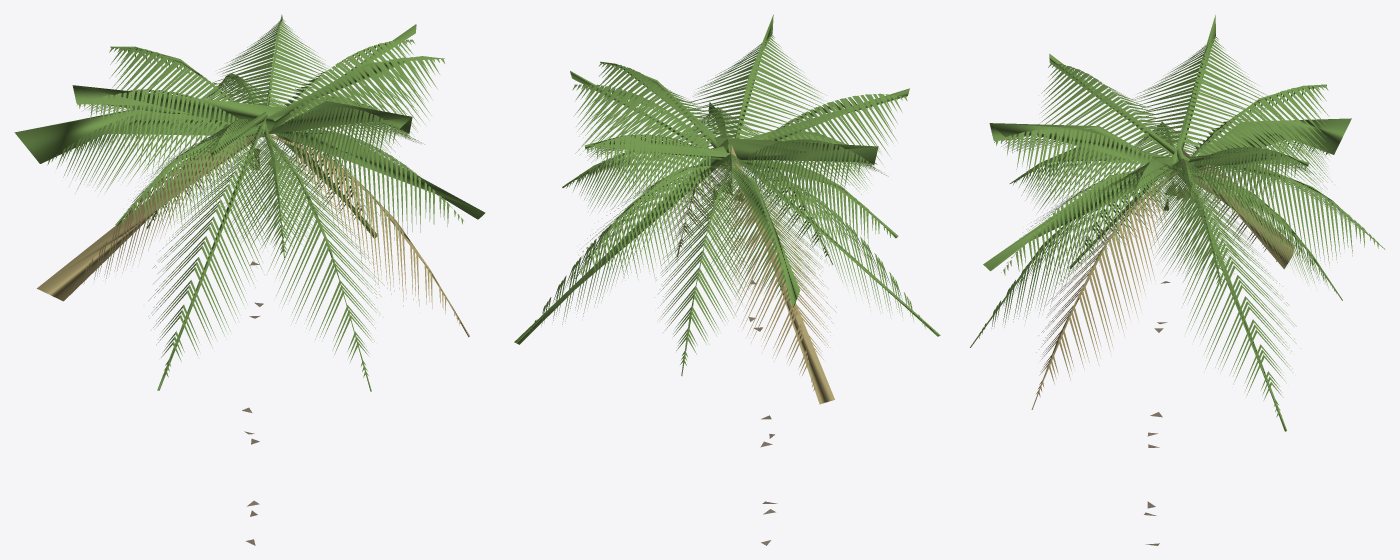
The model's file is city_palm_1_far.glb.
3 views of the same model, side by side, from view 1: azimuth 30°, elevation 25°; view 2: azimuth 150°, elevation 25°; view 3: azimuth 270°, elevation 25° (orthographic). The views are drawn at different scales.
Parts seen in each view (by area): view 1: Frond0; view 2: Frond0; view 3: Frond0.
Part boxes in pixels (x1,y1,x2,y2): Frond0: (14,14,485,545); Frond0: (514,14,940,545); Frond0: (970,15,1385,545).
Bounding box in the file's own units: 7.79 × 10.26 × 8.4.
